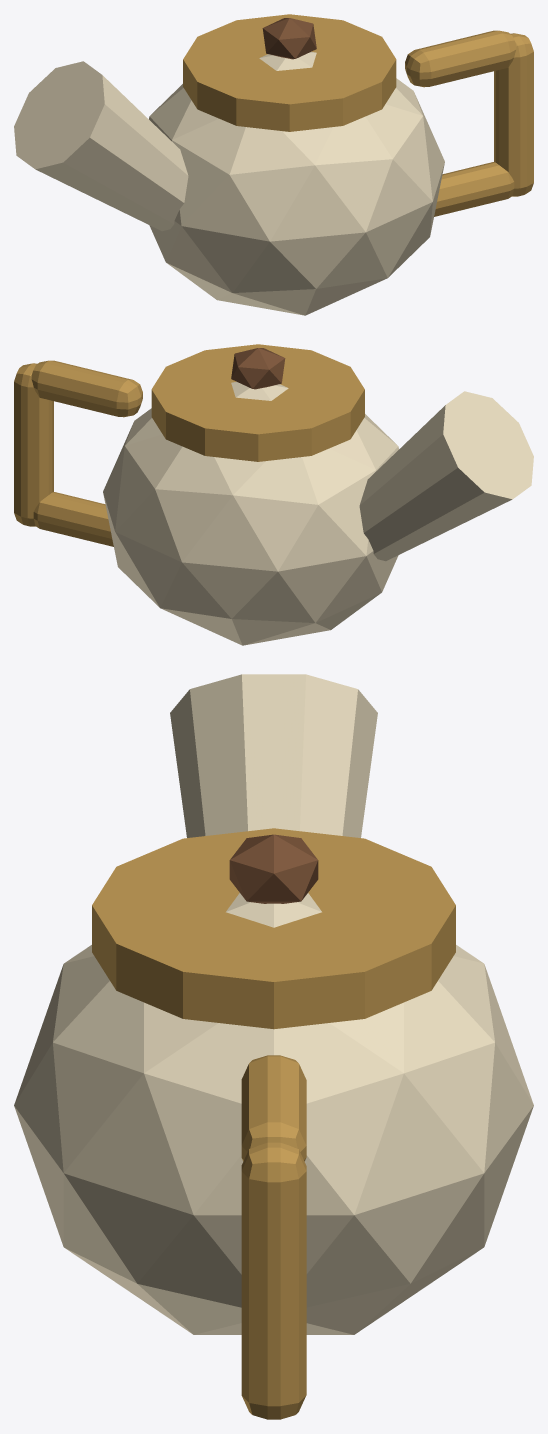
The model's file is SM_CH_Story_Teapot.fbx.
3 views of the same model, one above another, from view 1: azimuth 30°, elevation 25°; view 2: azimuth 150°, elevation 25°; view 3: azimuth 270°, elevation 25° (orthographic). The views are drawn at different scales.
Visible parts, largest first — view 1: SM_CH_Story_Teapot; view 2: SM_CH_Story_Teapot; view 3: SM_CH_Story_Teapot.
Boxes of the visible parts, left/top/right/bottom form: SM_CH_Story_Teapot: left=14, top=14, right=533, bottom=315; SM_CH_Story_Teapot: left=14, top=344, right=533, bottom=645; SM_CH_Story_Teapot: left=14, top=674, right=533, bottom=1419.
Size of the model in its own units: 7651 by 4000 by 4100.
